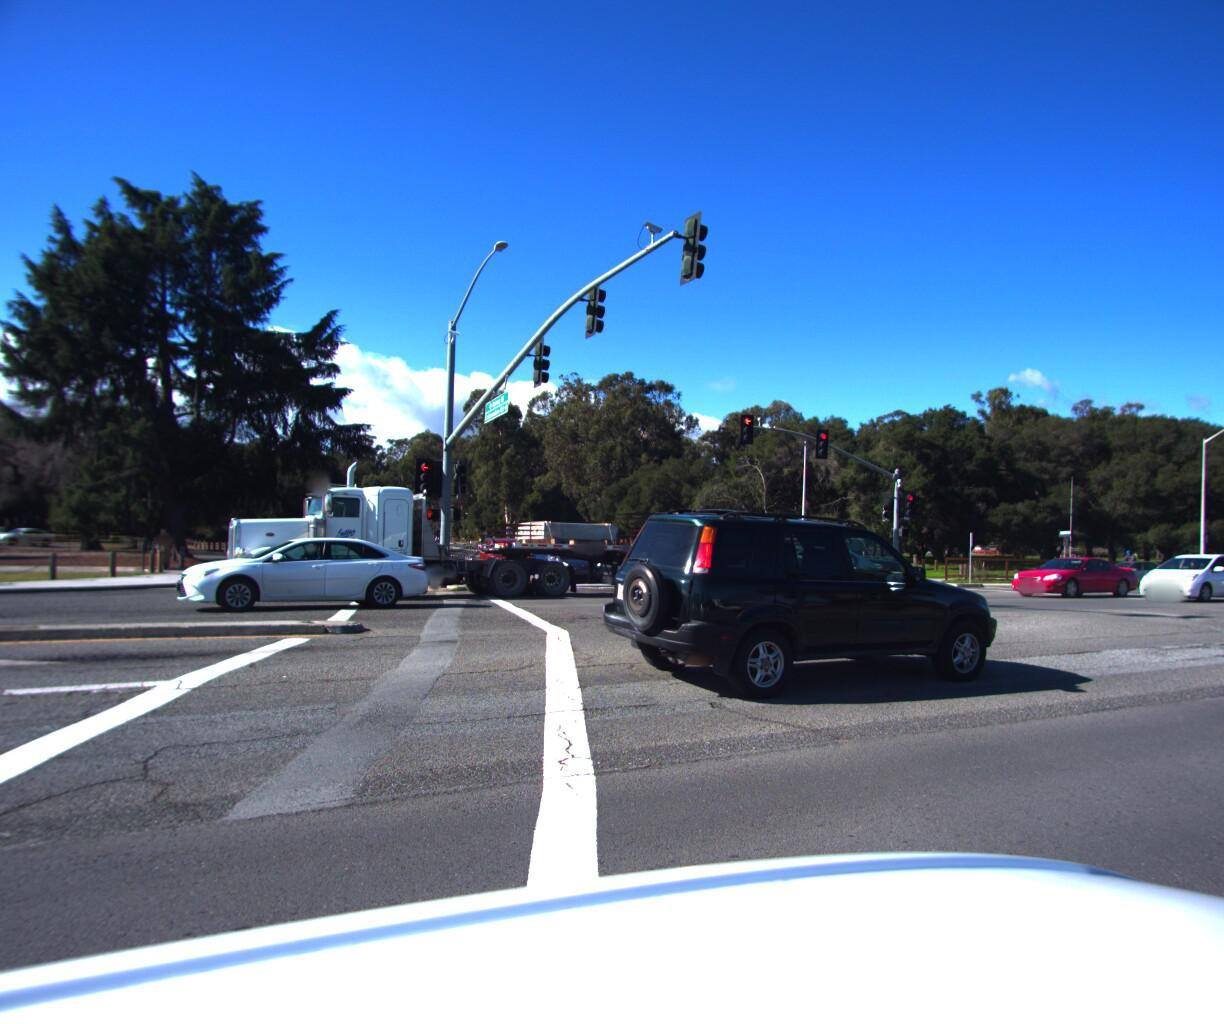bicycle: (1113, 544, 1145, 574)
car: (589, 496, 1034, 708), (152, 524, 422, 610), (998, 550, 1165, 597), (1133, 547, 1224, 599), (1077, 554, 1182, 586), (536, 542, 611, 581), (1212, 554, 1224, 589)
truck: (176, 461, 917, 629)
